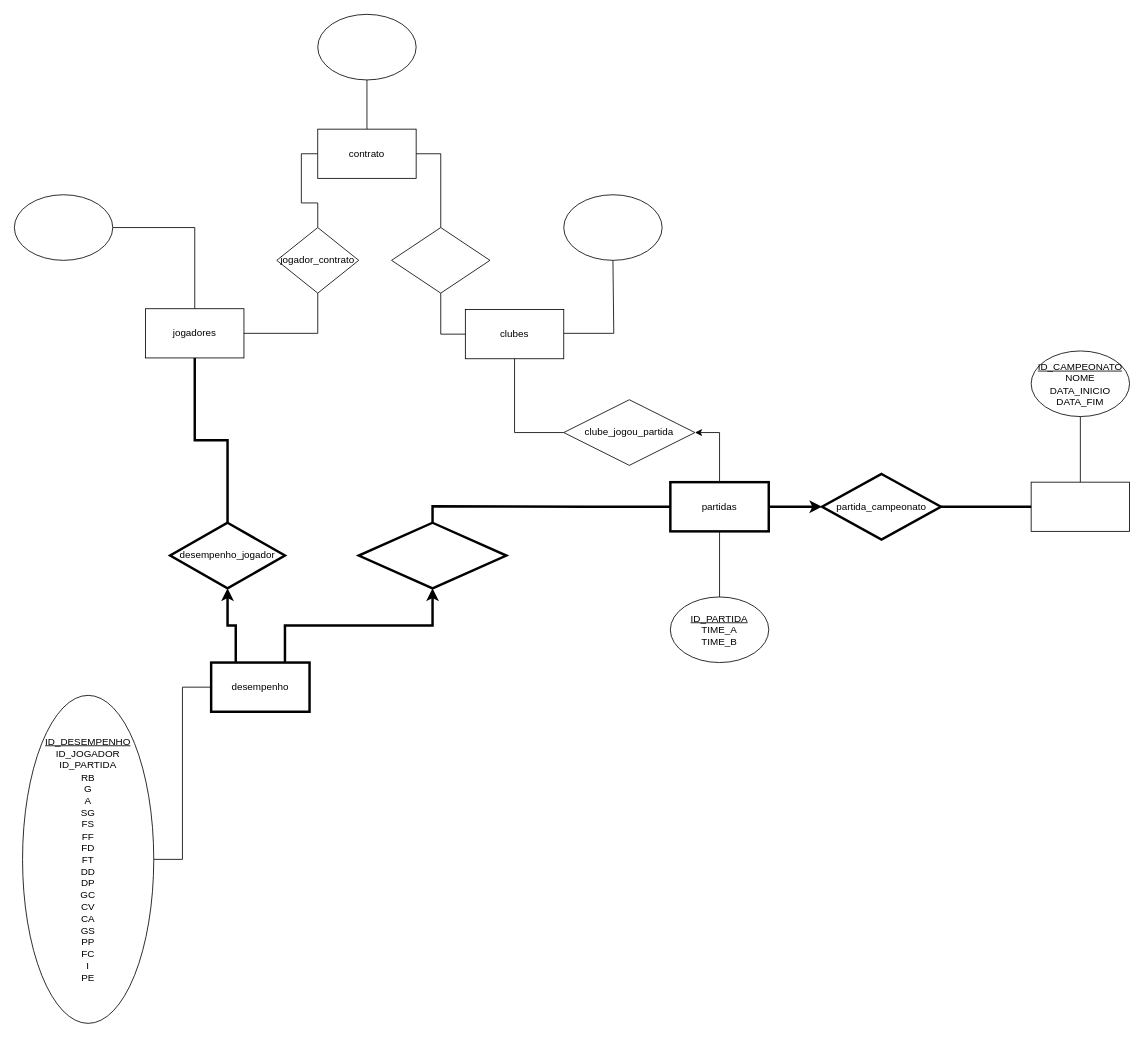
The diagram is 1144 pixels wide and 1038 high, and some of its shapes have lost their labels. The shapes that lost their labels are listed below. From the top down, each one's box as (x1, y1, x2, y2) in pixels, then its label:
(317, 14, 416, 80): data_inicio data_fim
(14, 194, 113, 260): NOME CPF IDADE
(563, 194, 662, 260): NOME ID_CLUBE
(391, 227, 490, 293): clube_contrato
(1030, 481, 1130, 531): campeonatos
(357, 521, 507, 589): desempenho_partida
